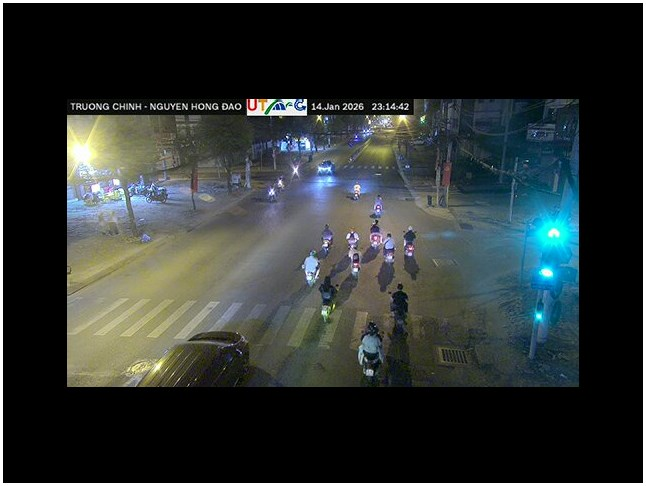car: (124, 332, 251, 387)
